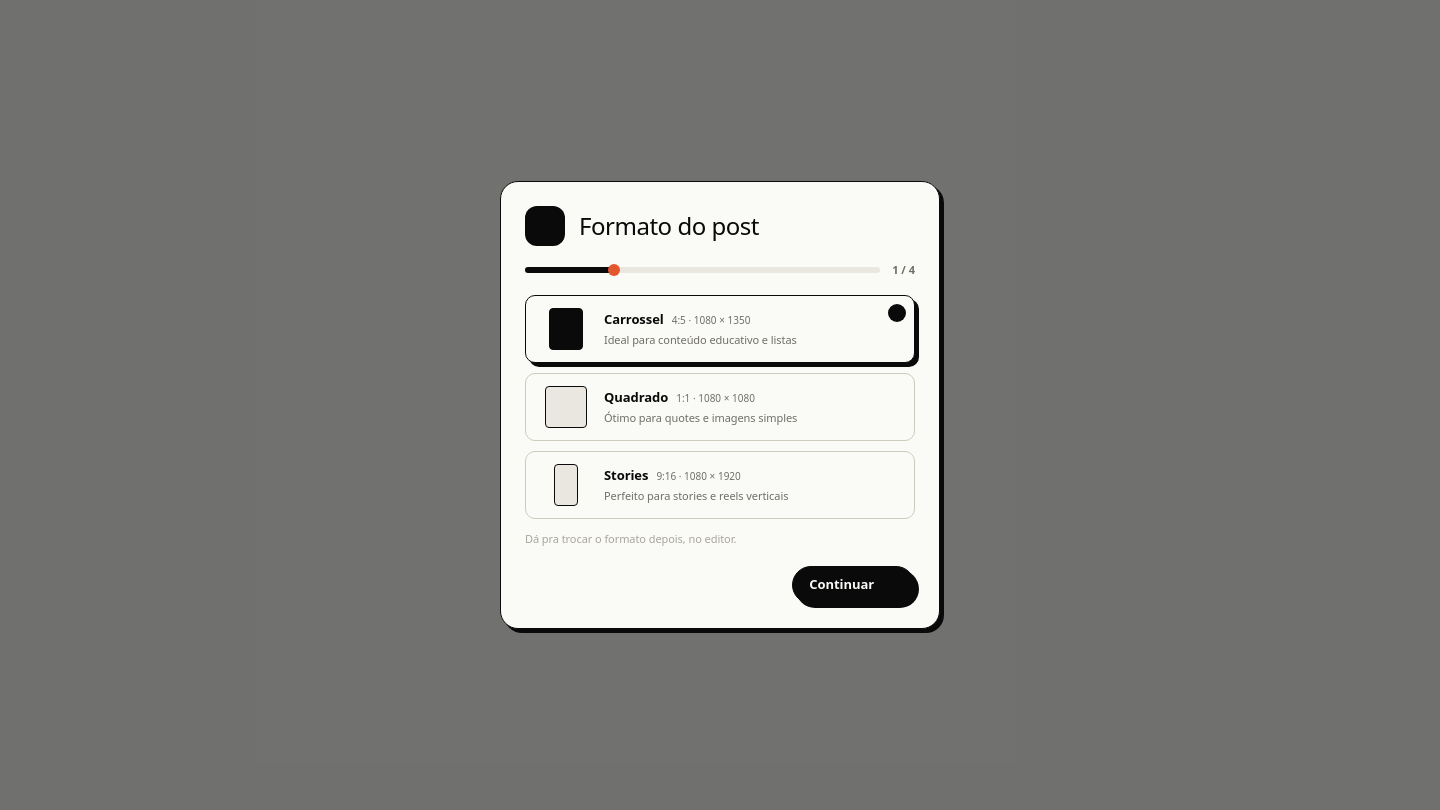
Test: A2 — o passo de template é só a escolha › o `short` dentro do card CONTINUA — ele não pediu para tirar
Click the button "Continuar" at (854, 585), box [792,566,915,604]
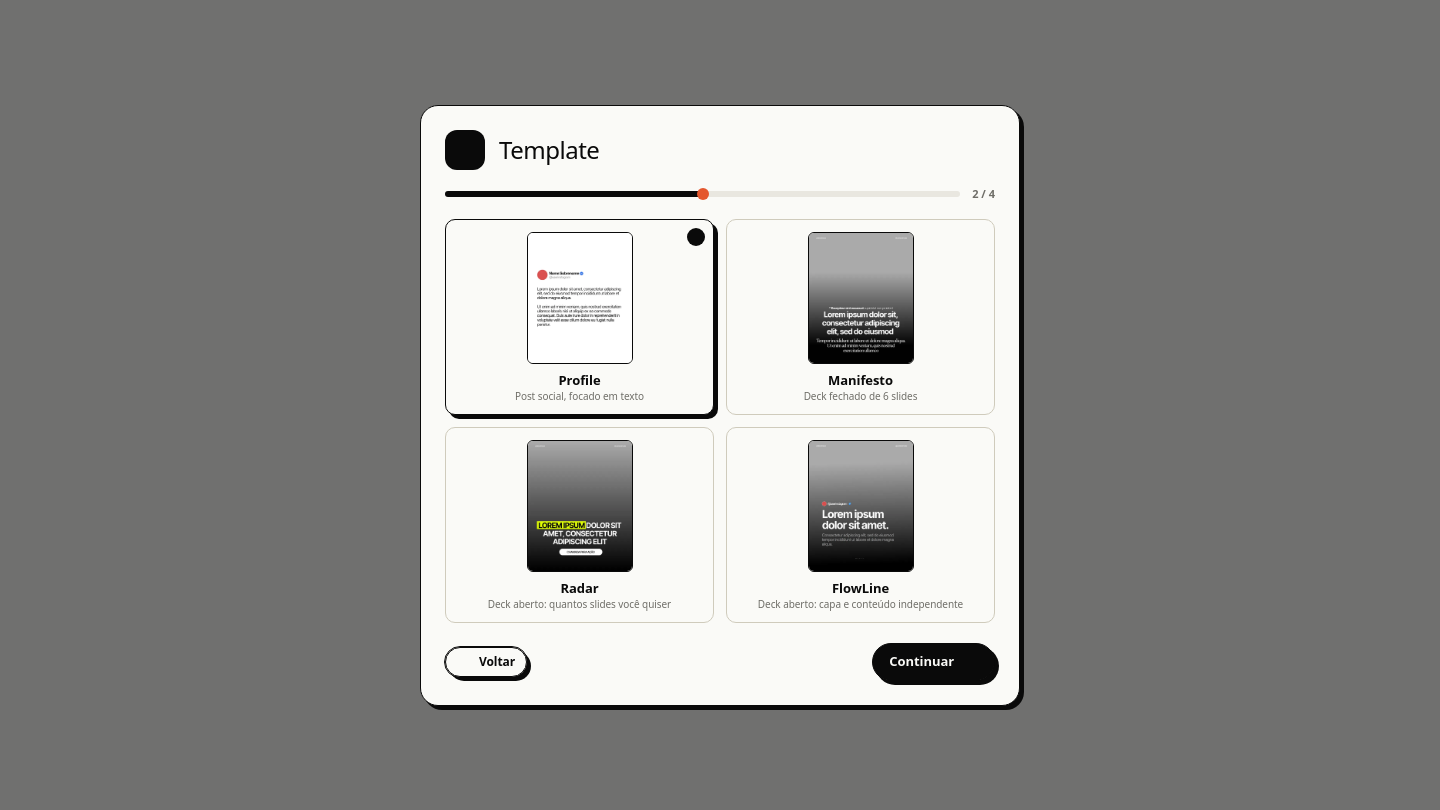
Check: the text "Deck aberto: quantos slides você quiser" is shown, box [488,596,671,610]
Check: the text "Post social, focado em texto" is shown, box [515,388,644,402]
Check: the text "Deck fechado de 6 slides" is shown, box [804,388,917,402]
